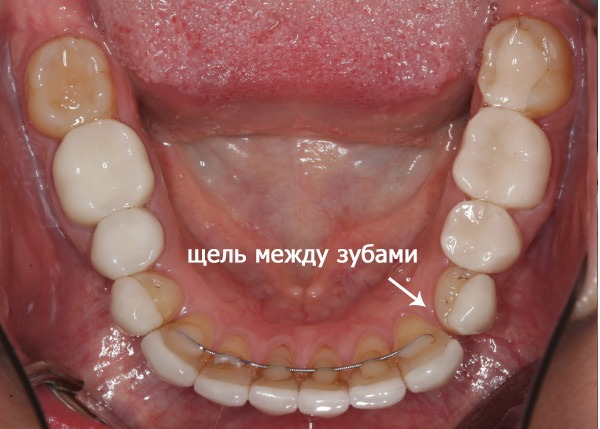LL1BC_decay: (435, 270, 496, 331)
LL1M_healthy: (455, 109, 567, 195)
LL2BC_healthy: (442, 202, 520, 269)
LL2M_healthy: (480, 26, 574, 112)
LLCI_healthy: (301, 360, 348, 416)
LLC_healthy: (398, 318, 459, 388)
LLLI_healthy: (348, 347, 404, 406)
LR1BC_healthy: (111, 276, 180, 329)
LR1M_healthy: (55, 119, 152, 223)
LR2BC_healthy: (93, 210, 163, 274)
LR2M_healthy: (24, 39, 111, 132)
LRCI_decay: (253, 361, 298, 413)
LRC_decay: (151, 318, 204, 385)
LRLI_decay: (200, 342, 252, 405)
